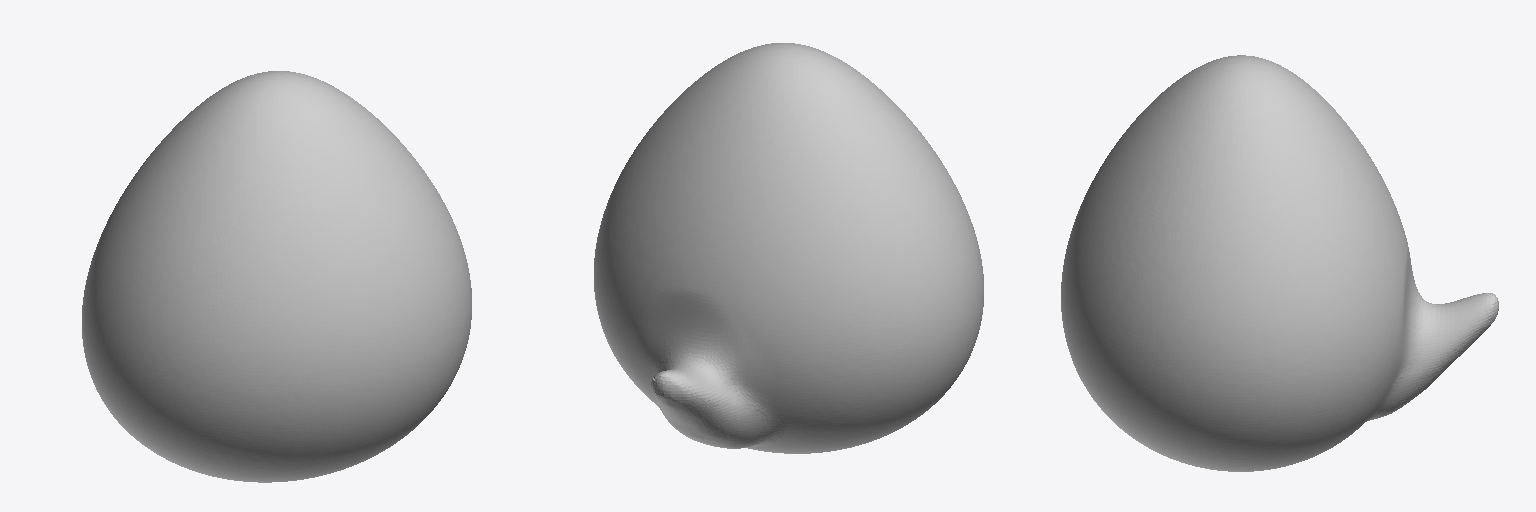
The model's file is SubTool-3-10233600.OBJ.
The picture shows the model from 3 angles: view 1: azimuth 30°, elevation 25°; view 2: azimuth 150°, elevation 25°; view 3: azimuth 270°, elevation 25°; orthographic projection.
Visible parts, largest first — view 1: ZBrush_defualt_group; view 2: ZBrush_defualt_group; view 3: ZBrush_defualt_group.
Boxes of the visible parts, x1,y1,x2,y2 form: ZBrush_defualt_group: [82, 71, 471, 482]; ZBrush_defualt_group: [594, 43, 983, 453]; ZBrush_defualt_group: [1061, 55, 1498, 471].
Bounding box in the file's own units: 1.42 × 1.49 × 1.54.